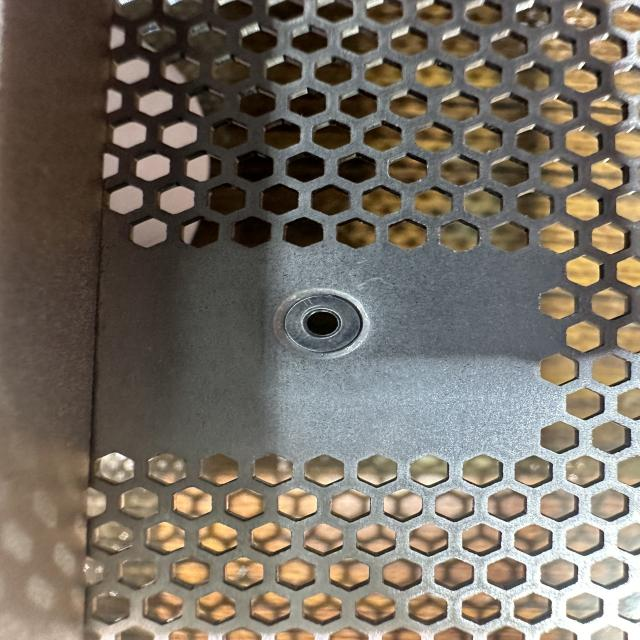Missing screw: (262, 284, 378, 362)
